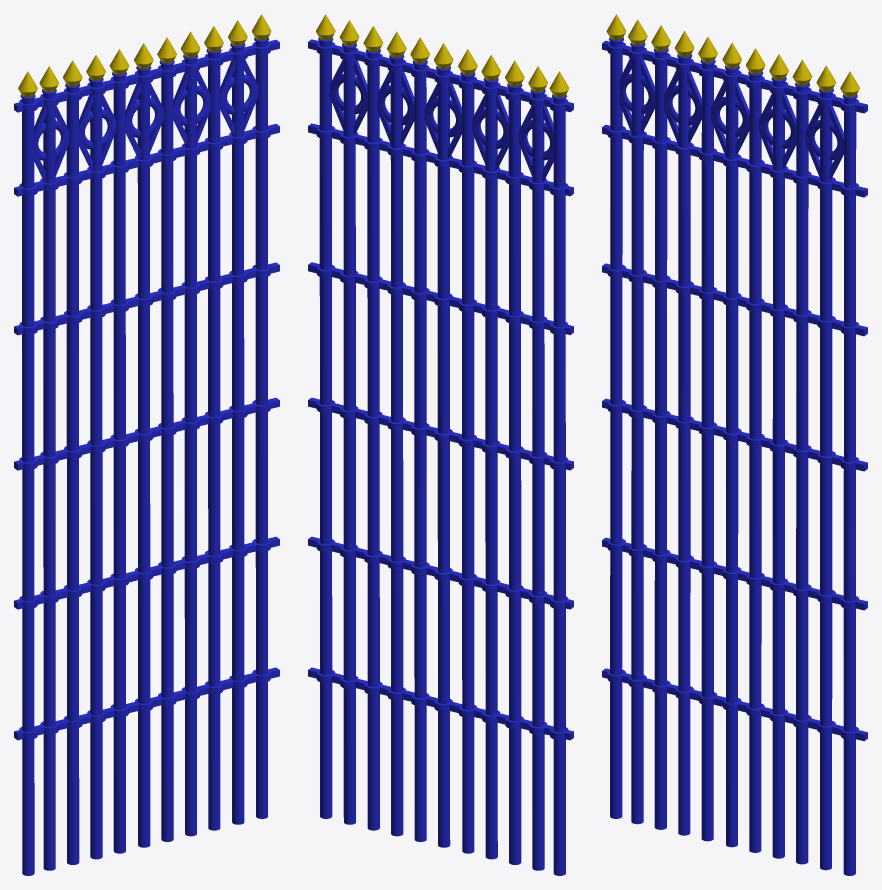
The model's file is grille.fbx.
3 renders of one model, left to right at view 1: azimuth 30°, elevation 25°; view 2: azimuth 150°, elevation 25°; view 3: azimuth 330°, elevation 25°, orthographic.
Visible parts, largest first — view 1: grille; view 2: grille; view 3: grille.
Part boxes in pixels (box(x1,y1,x2,y2)): grille: box(14, 14, 279, 875); grille: box(308, 14, 573, 875); grille: box(602, 14, 867, 875).
Bounding box in the file's own units: 200 × 586 × 13.03.
